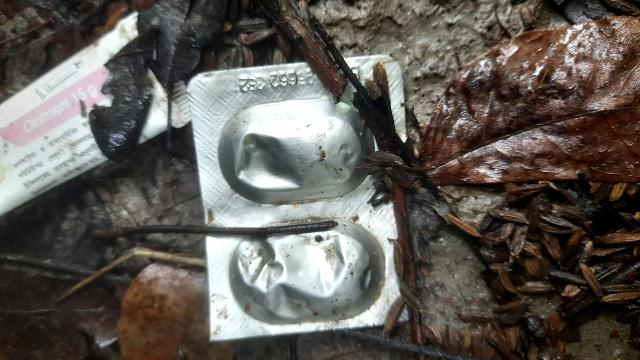medicine: (168, 49, 437, 347)
